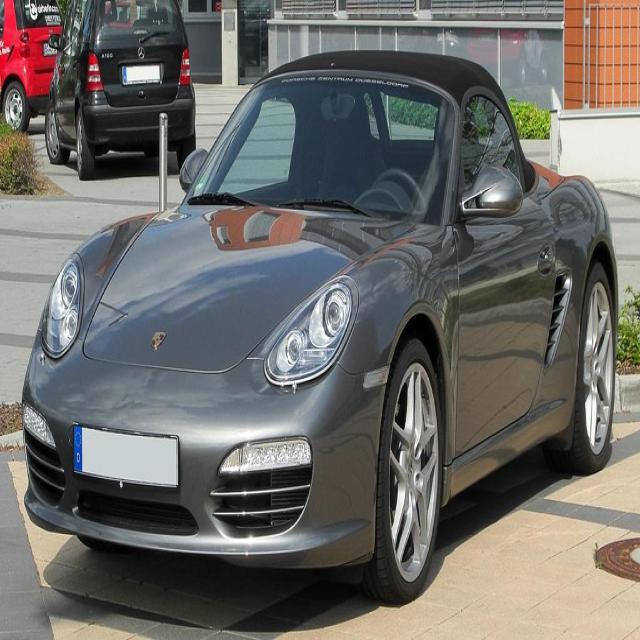car: (22, 45, 617, 605)
